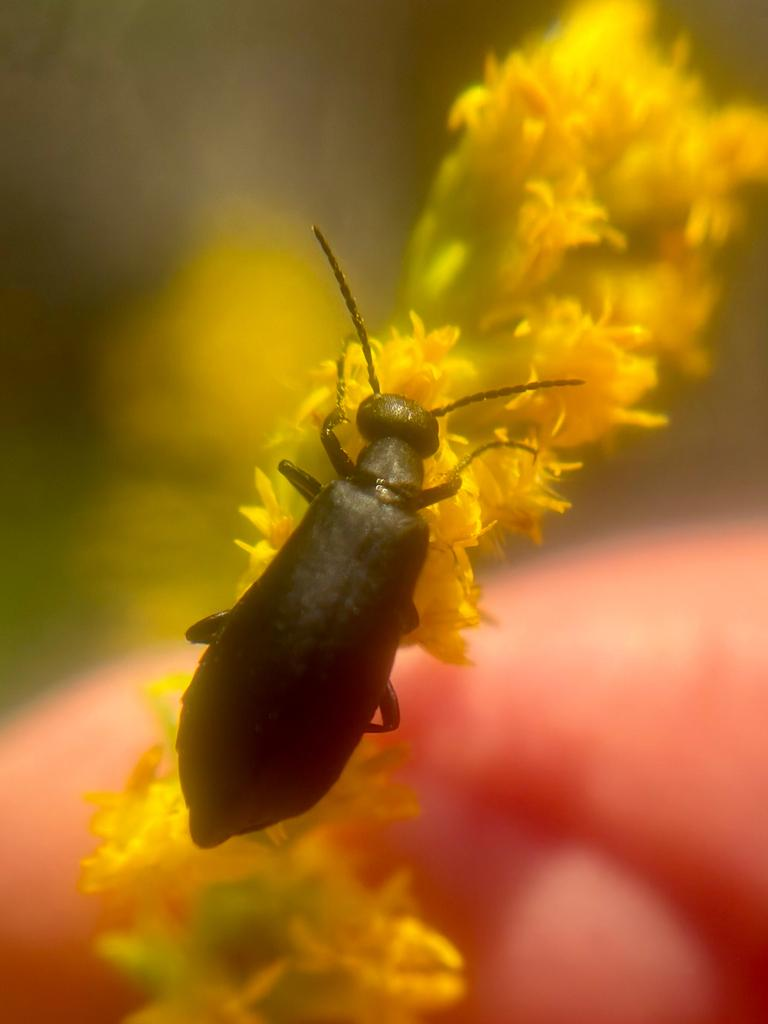blister_beetle: (109, 172, 648, 912)
